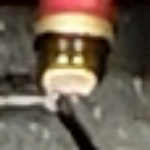bottle: (17, 13, 122, 123)
